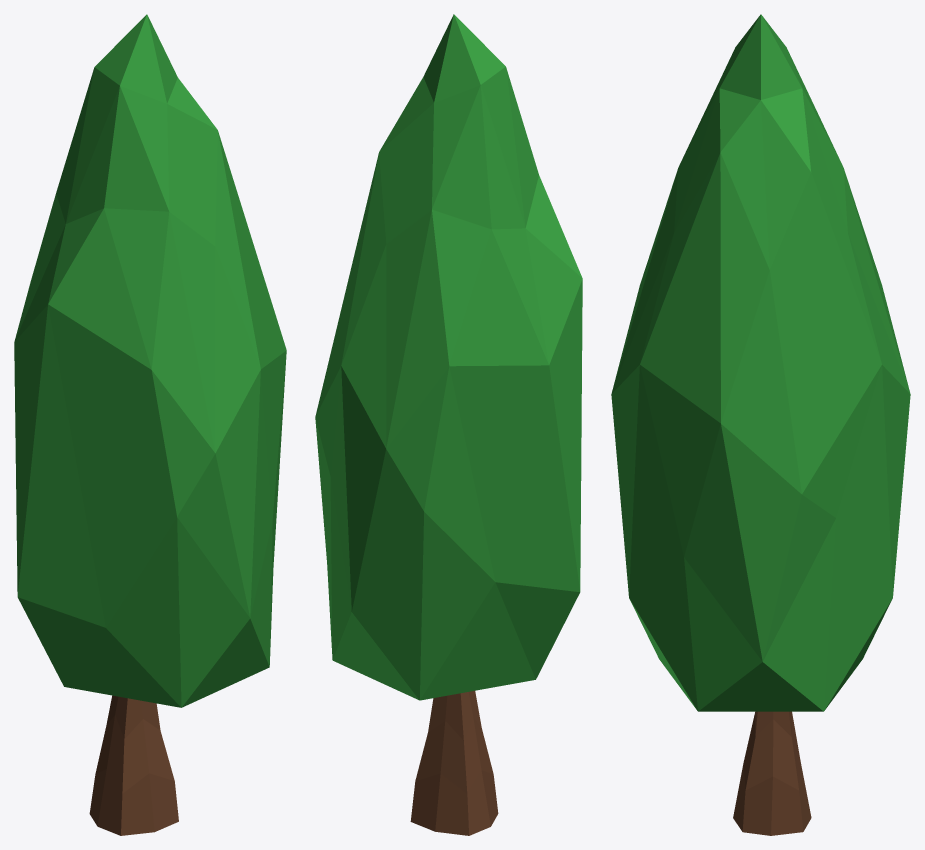
Rendered from Tree_46_Green.fbx.
The picture shows the model from 3 angles, left to right: view 1: azimuth 30°, elevation 25°; view 2: azimuth 150°, elevation 25°; view 3: azimuth 270°, elevation 25°; orthographic projection.
Parts seen in each view (by area): view 1: Tree_46_Green_Part_1, Tree_46_Green_Part_2; view 2: Tree_46_Green_Part_1, Tree_46_Green_Part_2; view 3: Tree_46_Green_Part_1, Tree_46_Green_Part_2.
Boxes of the visible parts, <box> form: Tree_46_Green_Part_1: <box>14,14,286,707</box>; Tree_46_Green_Part_2: <box>89,695,178,835</box>; Tree_46_Green_Part_1: <box>315,14,582,700</box>; Tree_46_Green_Part_2: <box>410,690,498,835</box>; Tree_46_Green_Part_1: <box>611,14,910,711</box>; Tree_46_Green_Part_2: <box>733,711,811,835</box>.
Bounding box in the file's own units: 265 × 797 × 268.
